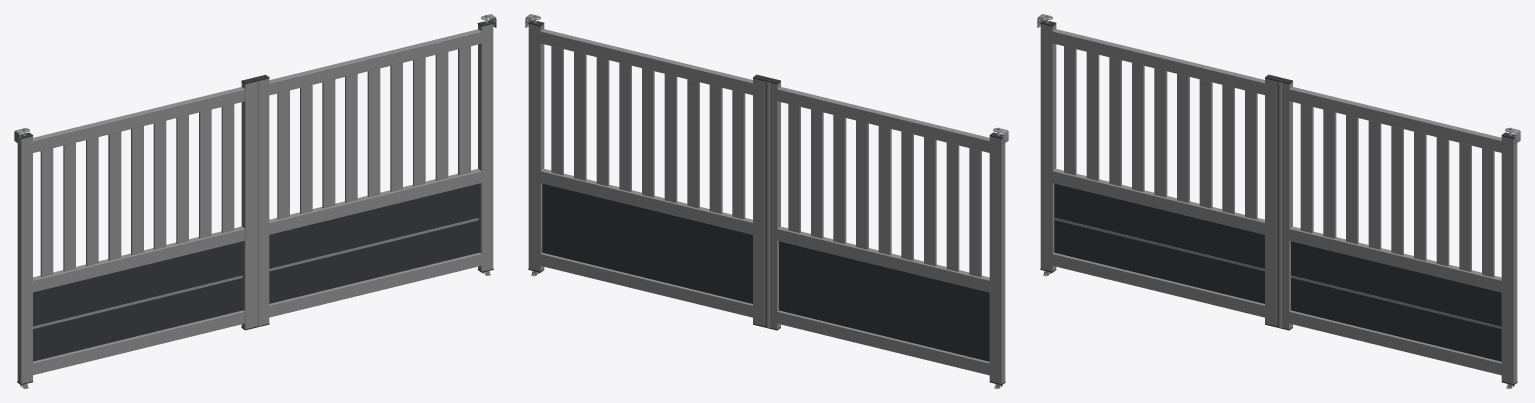
3 renders of one model, left to right at view 1: azimuth 30°, elevation 25°; view 2: azimuth 150°, elevation 25°; view 3: azimuth 330°, elevation 25°, orthographic.
Visible parts, largest first — view 1: Chapa Alucobond030, Chapa Alucobond044, Shape107412643, Shape107412740, Shape107412638, Shape107412809, Shape107412712, travessa_central_ladoA003, travessa_central_ladoA001, Shape107412808, Shape107412711, Shape107412739 (+21 smaller); view 2: Chapa Alucobond030, Chapa Alucobond044, Shape107412643, Shape107412740, Shape107412712, Shape107412809, travessa_central_ladoA001, travessa_central_ladoA003, Shape107412711, Shape107412808, Shape107412739, Shape107412638 (+19 smaller); view 3: Chapa Alucobond030, Chapa Alucobond044, Shape107412740, Shape107412643, Shape107412809, Shape107412712, travessa_central_ladoA003, travessa_central_ladoA001, Shape107412808, Shape107412711, Shape107412638, Shape107412739 (+21 smaller).
Part boxes in pixels (<box>): Chapa Alucobond030: <box>33,241,243,361</box>; Chapa Alucobond044: <box>269,183,479,303</box>; Shape107412643: <box>17,136,32,383</box>; Shape107412740: <box>478,24,493,271</box>; Shape107412638: <box>241,81,256,329</box>; Shape107412809: <box>269,29,481,95</box>; Shape107412712: <box>33,87,244,152</box>; travessa_central_ladoA003: <box>269,169,481,234</box>; travessa_central_ladoA001: <box>33,226,244,292</box>; Shape107412808: <box>269,252,481,317</box>; Shape107412711: <box>33,310,244,374</box>; Shape107412739: <box>258,78,269,324</box>; Chapa Alucobond030: <box>779,241,989,361</box>; Chapa Alucobond044: <box>542,183,752,303</box>; Shape107412643: <box>989,136,1005,383</box>; Shape107412740: <box>528,24,544,271</box>; Shape107412712: <box>777,87,989,152</box>; Shape107412809: <box>540,29,752,95</box>; travessa_central_ladoA001: <box>777,226,989,292</box>; travessa_central_ladoA003: <box>540,169,752,234</box>; Shape107412711: <box>777,310,989,375</box>; Shape107412808: <box>540,252,752,317</box>; Shape107412739: <box>753,78,764,326</box>; Shape107412638: <box>765,81,780,329</box>; Chapa Alucobond030: <box>1054,183,1264,303</box>; Chapa Alucobond044: <box>1291,241,1501,361</box>; Shape107412740: <box>1501,136,1517,383</box>; Shape107412643: <box>1040,24,1056,271</box>; Shape107412809: <box>1289,86,1501,152</box>; Shape107412712: <box>1052,29,1264,94</box>; travessa_central_ladoA003: <box>1289,226,1501,292</box>; travessa_central_ladoA001: <box>1052,168,1264,234</box>; Shape107412808: <box>1289,310,1501,375</box>; Shape107412711: <box>1052,252,1264,317</box>; Shape107412638: <box>1265,78,1276,326</box>; Shape107412739: <box>1277,81,1292,329</box>.
Size of the model in its own units: 3260 by 1688 by 68.93.
5 materials, 2 textured.
